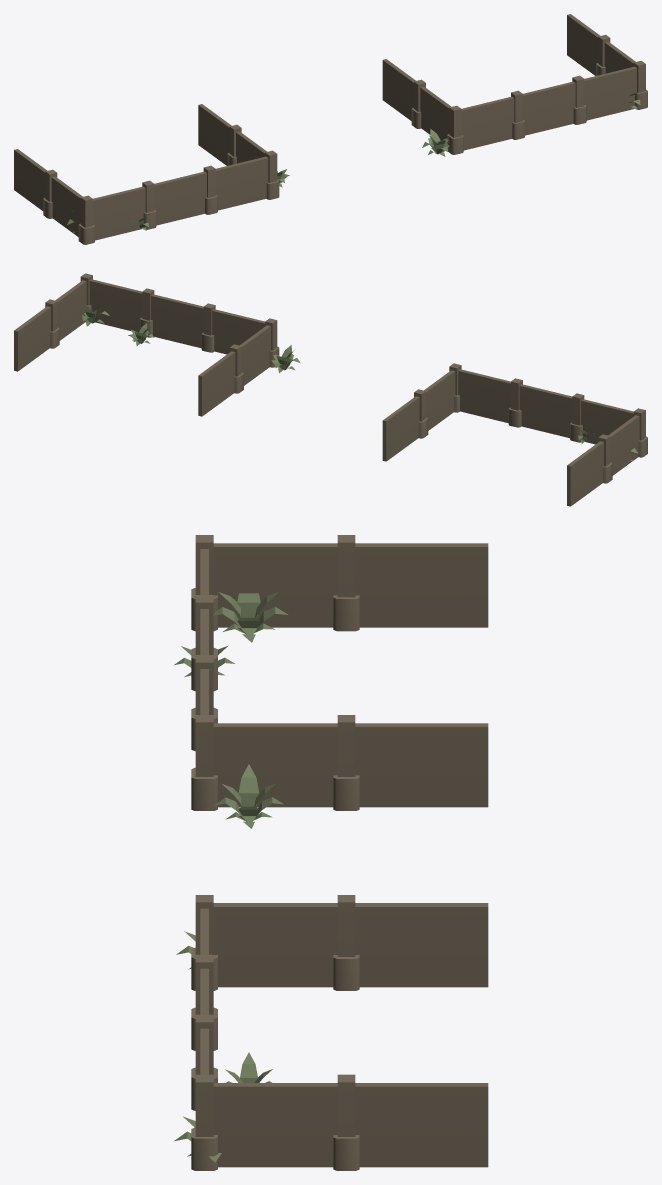
Rendered from verge.glb.
The picture shows the model from 3 angles, top to bottom: view 1: azimuth 30°, elevation 25°; view 2: azimuth 150°, elevation 25°; view 3: azimuth 270°, elevation 25°; orthographic projection. The views are drawn at different scales.
Parts seen in each view (by area): view 1: fence--4.8, fence-4.8, bush-3; view 2: fence--4.8, fence-4.8, bush-3; view 3: fence-4.8, fence--4.8, bush-0, bush-2.
Part boxes in pixels (bbox=[...]): fence--4.8: bbox=[14, 104, 279, 244]; fence-4.8: bbox=[382, 14, 647, 154]; bush-3: bbox=[422, 129, 449, 156]; fence--4.8: bbox=[382, 363, 647, 506]; fence-4.8: bbox=[14, 273, 279, 416]; bush-3: bbox=[270, 345, 300, 373]; fence-4.8: bbox=[191, 895, 488, 1170]; fence--4.8: bbox=[191, 535, 488, 810]; bush-0: bbox=[213, 591, 288, 642]; bush-2: bbox=[214, 764, 283, 828].
Bounding box in the file's own units: 14.9 × 1.08 × 3.55.
